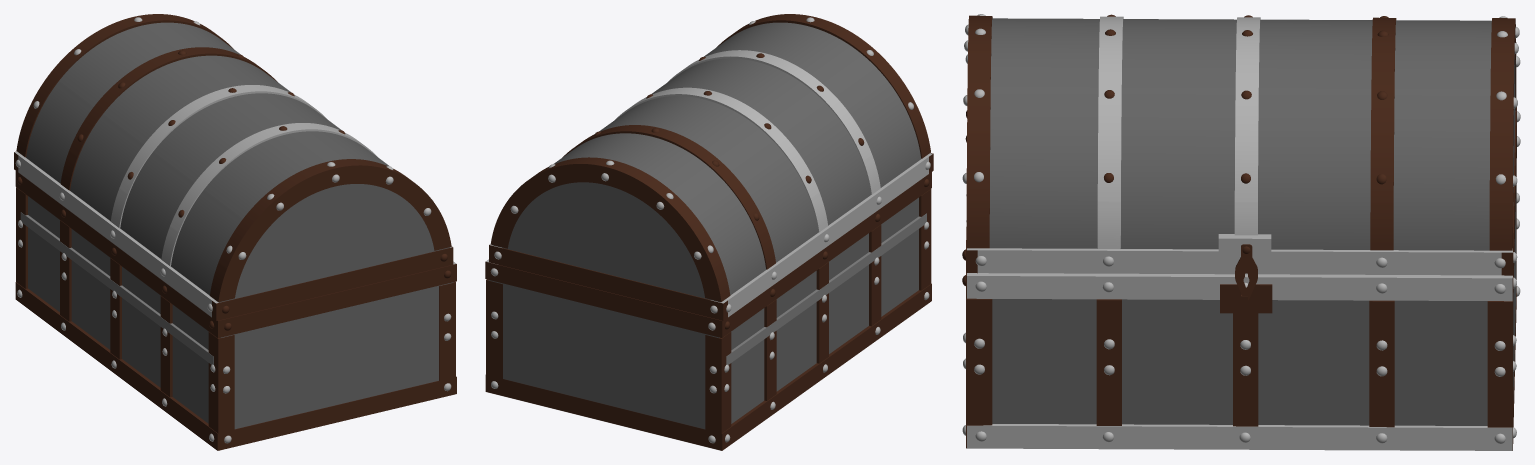
File: arkku.fbx
The picture shows the model from 3 angles, left to right: view 1: azimuth 30°, elevation 25°; view 2: azimuth 150°, elevation 25°; view 3: azimuth 270°, elevation 25°; orthographic projection. The views are drawn at different scales.
Parts seen in each view (by area): view 1: Circle26, Rectangle6, Circle115.Circle54, Rectangle7, Circle116, Rectangle0.Rectangle1, Rectangl22.Rectangl27, Rectangl22, Rectangle3.Rectangl29, Rectangle3.Rectangle4, Rectangle3.Rectangl30, Circle116.Circle55 (+12 smaller); view 2: Circle26, Rectangle2, Circle115, Rectangle7, Circle116.Circle55, Rectangle0, Rectangl22.Rectangl24, Rectangl22.Rectangl23, Rectangle3.Rectangle4, Rectangle3.Rectangl29, Rectangle3.Rectangl30, Circle116 (+12 smaller); view 3: Circle26, Rectangle7.Rectangle8, Rectangle3.Rectangle9, Rectangle3.Rectangl10, Rectangle3, Circle116.Circle55, Circle119.Circle117, Circle116, Circle119, Circle119.Circle118, Rectangl11.Rectangl15, Rectangl11.Rectangl12 (+7 smaller).
Boxes of the visible parts, box(x1,y1,x2,y2) form: Circle26: box(25, 22, 388, 300); Rectangle6: box(228, 284, 445, 429); Circle115.Circle54: box(219, 184, 449, 302); Rectangle7: box(28, 196, 227, 423); Circle116: box(210, 159, 451, 302); Rectangle0.Rectangle1: box(212, 247, 453, 320); Rectangl22.Rectangl27: box(217, 264, 456, 338); Rectangl22: box(212, 376, 456, 450); Rectangle3.Rectangl29: box(15, 282, 217, 450); Rectangle3.Rectangle4: box(14, 151, 218, 317); Rectangle3.Rectangl30: box(15, 171, 217, 337); Circle116.Circle55: box(16, 14, 233, 157); Circle26: box(553, 22, 921, 295); Rectangle2: box(496, 281, 711, 429); Circle115: box(492, 182, 720, 302); Rectangle7: box(712, 197, 918, 423); Circle116.Circle55: box(490, 157, 730, 301); Rectangle0: box(489, 245, 727, 320); Rectangl22.Rectangl24: box(485, 261, 721, 337); Rectangl22.Rectangl23: box(485, 374, 721, 450); Rectangle3.Rectangle4: box(711, 153, 932, 317); Rectangle3.Rectangl29: box(722, 284, 931, 450); Rectangle3.Rectangl30: box(709, 172, 931, 337); Circle116: box(716, 14, 930, 158); Circle26: box(989, 18, 1491, 250); Rectangle7.Rectangle8: box(992, 299, 1487, 425); Rectangle3.Rectangle9: box(967, 424, 1512, 450); Rectangle3.Rectangl10: box(967, 273, 1512, 301); Rectangle3: box(967, 248, 1512, 275); Circle116.Circle55: box(1489, 18, 1516, 250); Circle119.Circle117: box(1370, 17, 1396, 250); Circle116: box(966, 15, 992, 248); Circle119: box(1097, 16, 1123, 248); Circle119.Circle118: box(1234, 17, 1260, 235); Rectangl11.Rectangl15: box(967, 298, 992, 425); Rectangl11.Rectangl12: box(1369, 300, 1394, 427).
Bounding box in the file's own units: 10.65 × 10.57 × 15.67.
